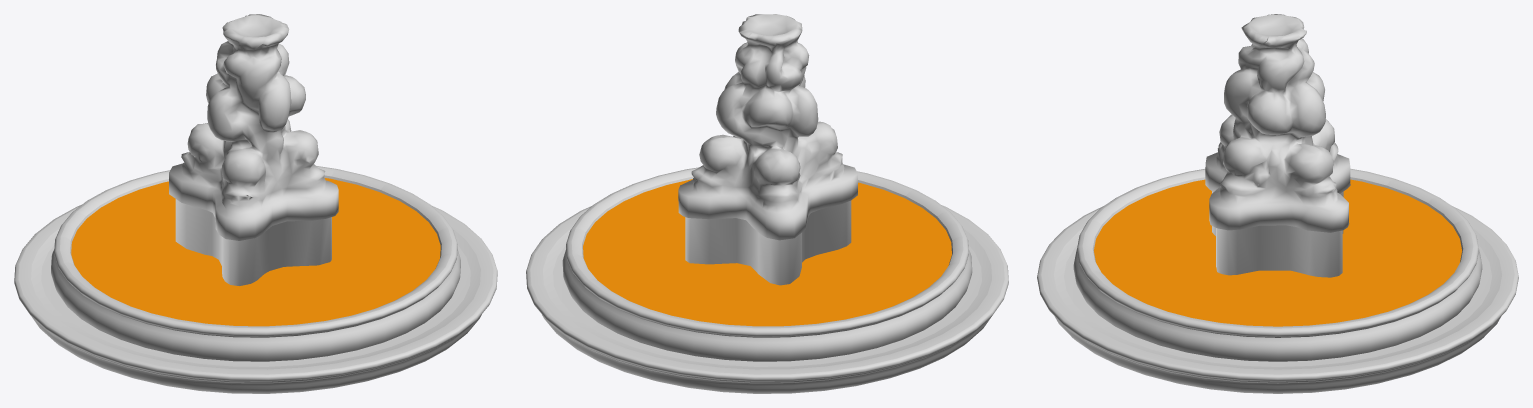
File: act1-fountain.fbx
3 renders of one model, left to right at view 1: azimuth 30°, elevation 25°; view 2: azimuth 150°, elevation 25°; view 3: azimuth 270°, elevation 25°, orthographic.
Visible parts, largest first — view 1: well_base_bottom_low, water, statue; view 2: well_base_bottom_low, statue, water; view 3: well_base_bottom_low, water, statue.
Part boxes in pixels (bbox=[...]): well_base_bottom_low: bbox=[14, 166, 497, 393]; water: bbox=[71, 177, 440, 326]; statue: bbox=[169, 14, 338, 285]; well_base_bottom_low: bbox=[526, 167, 1008, 393]; statue: bbox=[678, 14, 857, 285]; water: bbox=[583, 179, 951, 326]; well_base_bottom_low: bbox=[1037, 168, 1518, 393]; water: bbox=[1094, 179, 1461, 326]; statue: bbox=[1205, 14, 1350, 277].
Size of the model in its own units: 693 by 467 by 693.
